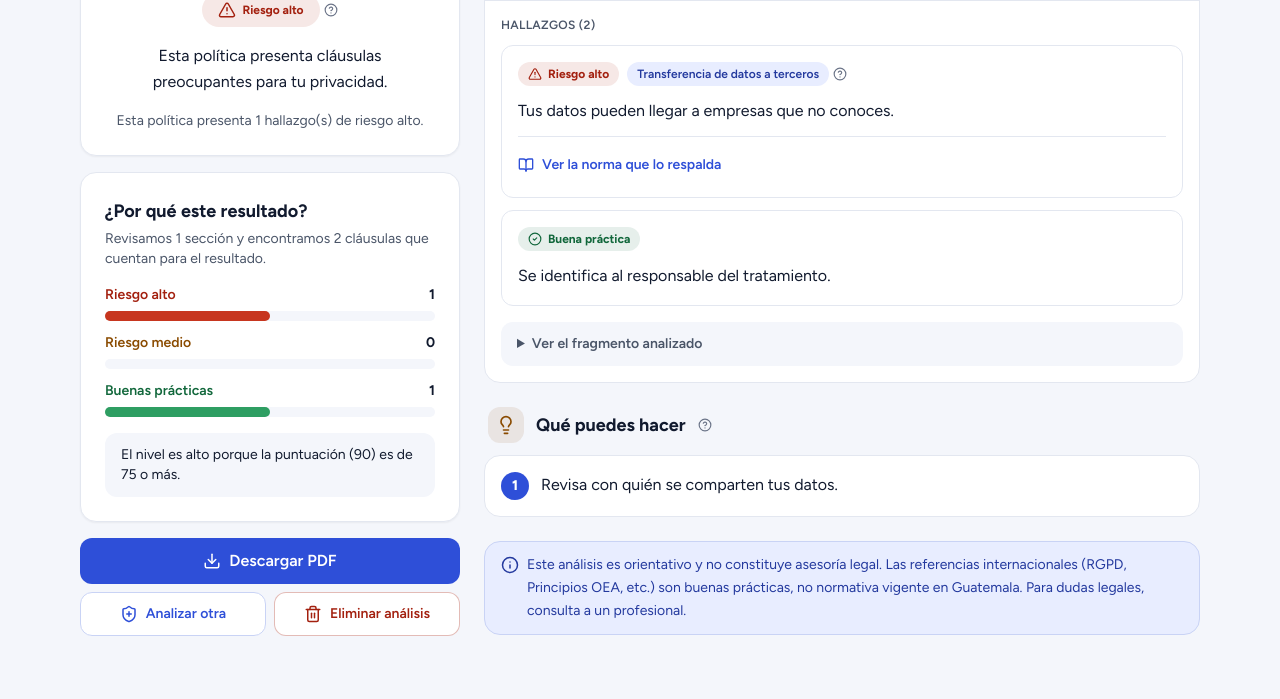
Resultados › eliminación desde el detalle › muestra el error si no se puede eliminar
(page scrolled)
Click the button "Eliminar análisis".
click(367, 613)  # box [274,591,460,635]
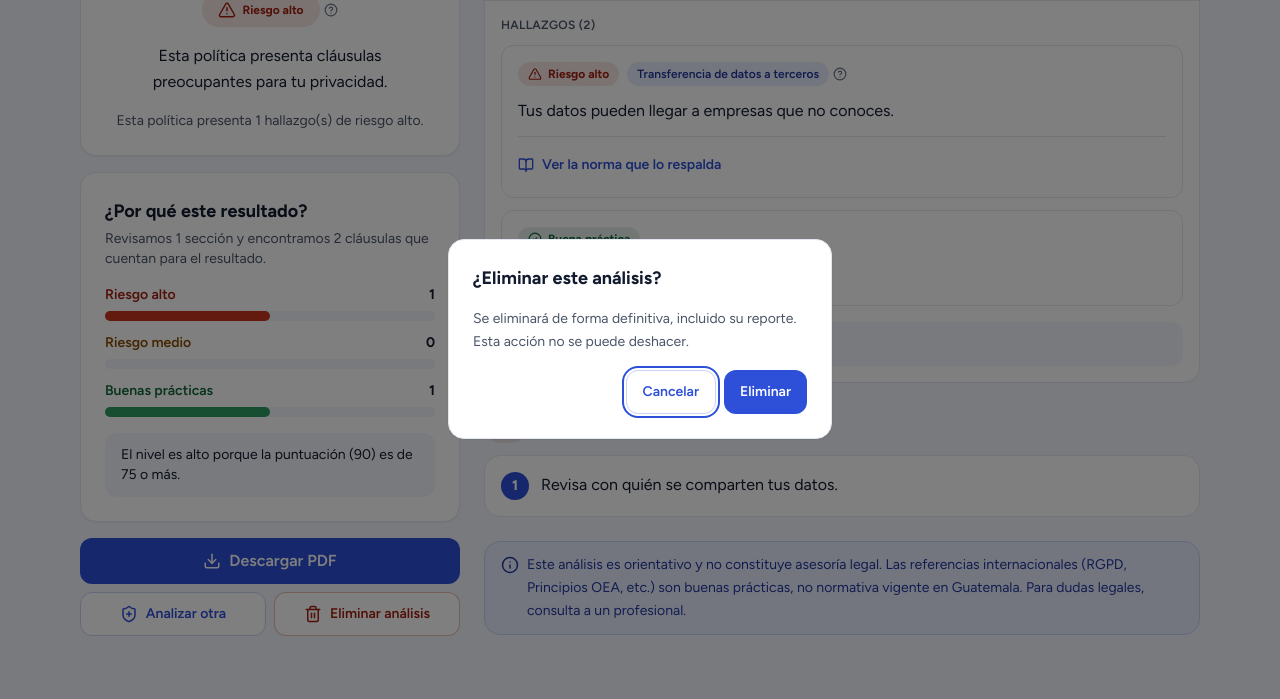
Click the button "Eliminar".
click(766, 392)  # box [724,370,807,414]
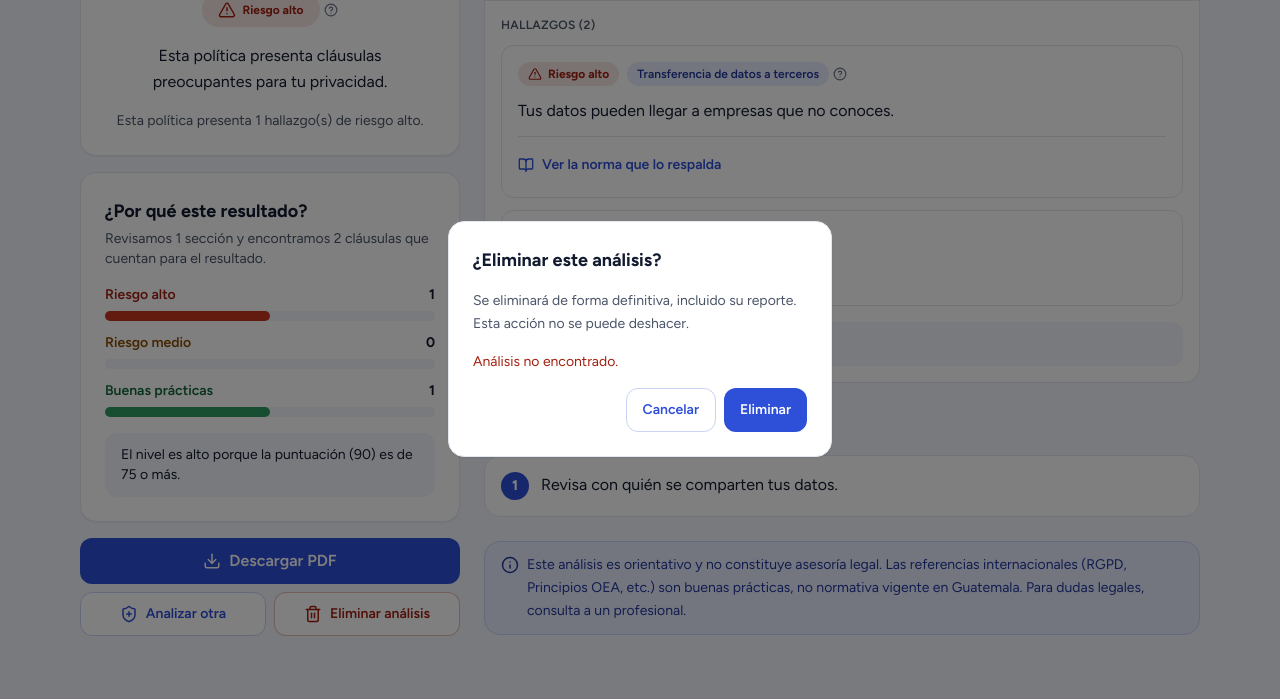
Now the text "Análisis no encontrado." is shown, box [473,353,618,370]
